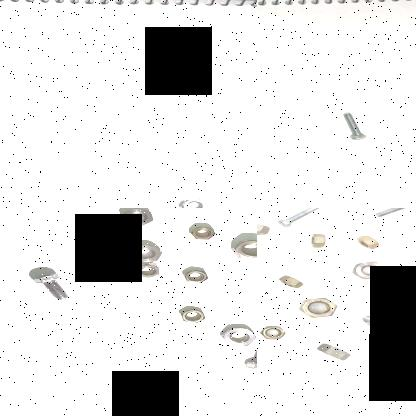Bolts: (359, 302, 409, 330), (30, 272, 71, 302), (334, 112, 372, 144), (272, 208, 322, 227), (240, 340, 257, 372), (371, 208, 416, 218)
NUTS: (126, 242, 164, 266), (298, 298, 339, 320), (310, 342, 353, 362), (220, 325, 256, 346), (350, 261, 390, 279), (118, 209, 155, 228), (231, 238, 257, 262), (380, 333, 414, 351), (272, 275, 308, 290), (129, 264, 161, 280), (258, 323, 286, 341), (352, 233, 382, 249), (178, 309, 209, 324), (80, 234, 108, 250), (175, 196, 209, 208), (180, 270, 209, 284), (306, 230, 326, 250), (190, 228, 217, 242), (257, 219, 273, 237)
